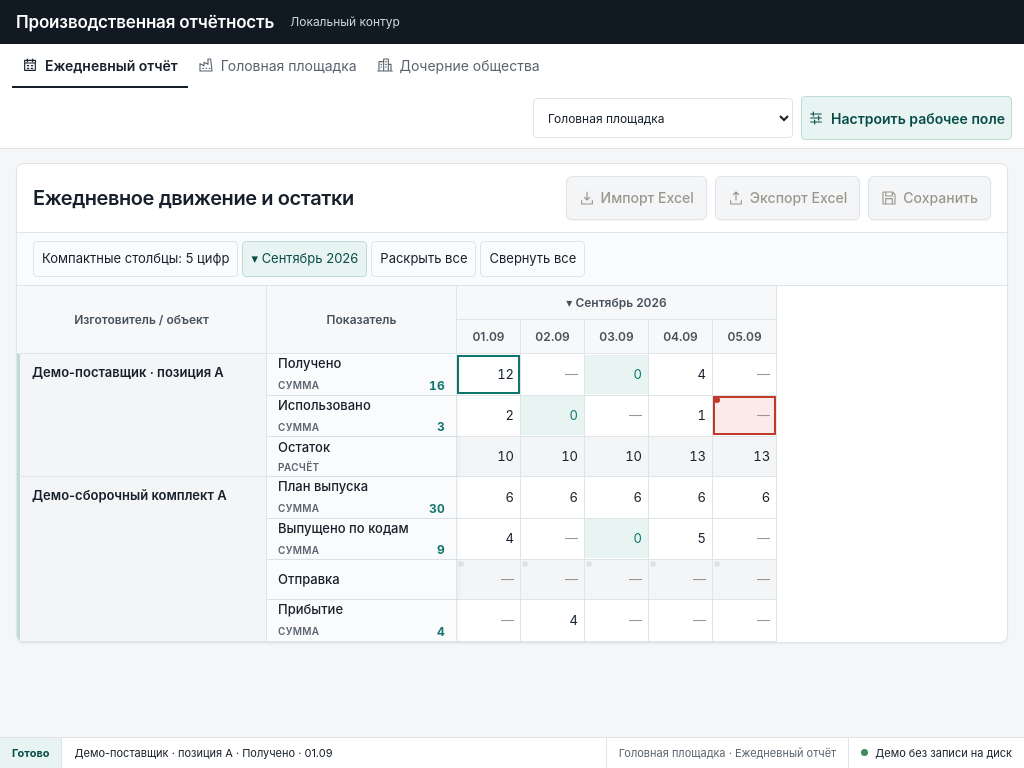
workspace settings › opens a separate settings window and adds report rows
Expected: the heading "Ежедневное движение и остатки" is shown, [33,184,354,212]
Expected: the text "Демо без записи на диск" is shown, [861,746,1012,760]
Click the button "Настроить рабочее поле": (906, 118) [801,96,1012,140]
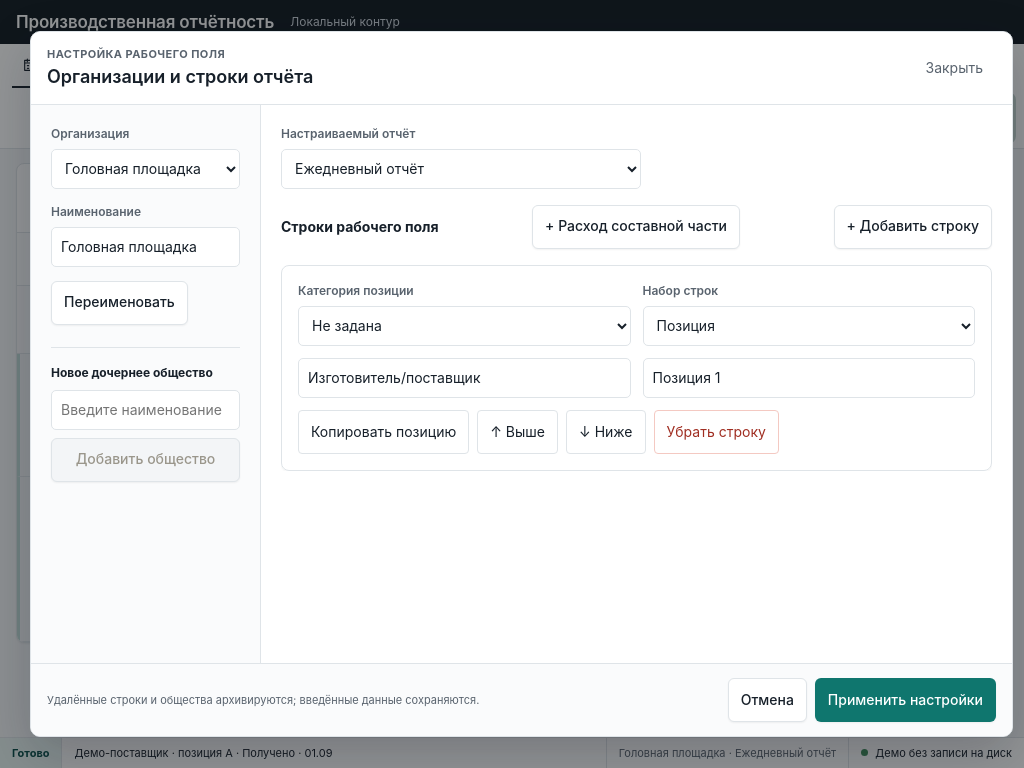
Expected: the dialog "Организации и строки отчёта" is shown
Click the button "+ Добавить строку": (913, 227) [834,205,992,249]
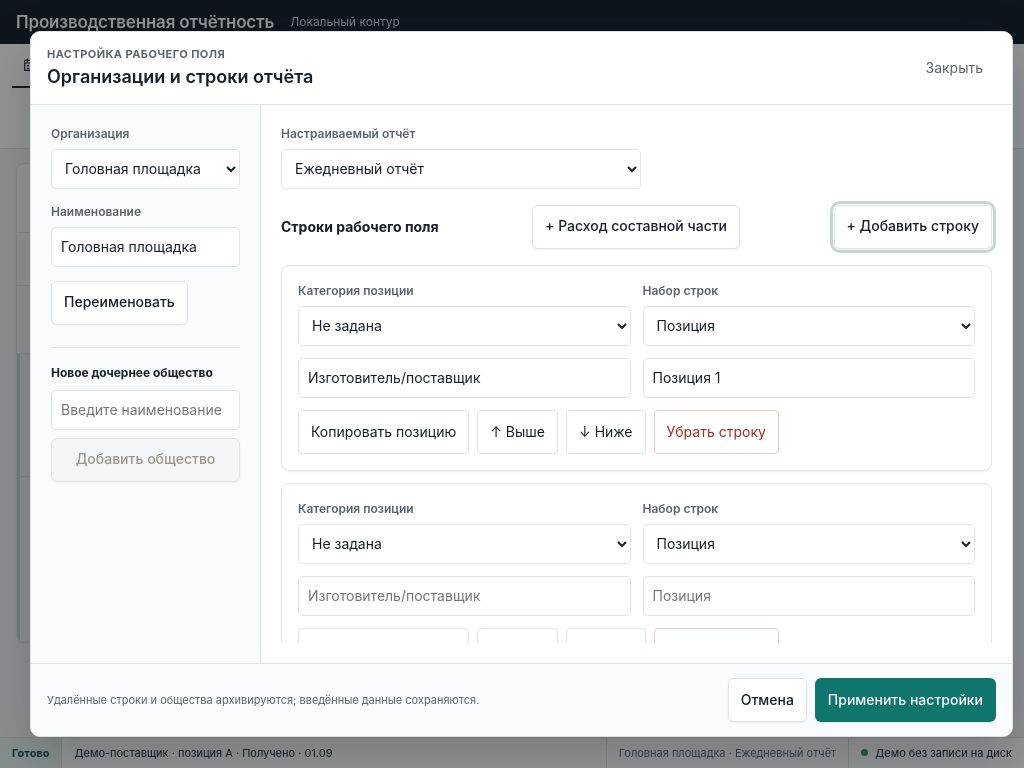
Expected: the number of fields named "Позиция" is 2
Expected: the field labelled "Позиция" is empty
In the field labelled "Позиция": (809, 596) [642,576,975,616], type "Новая деталь"
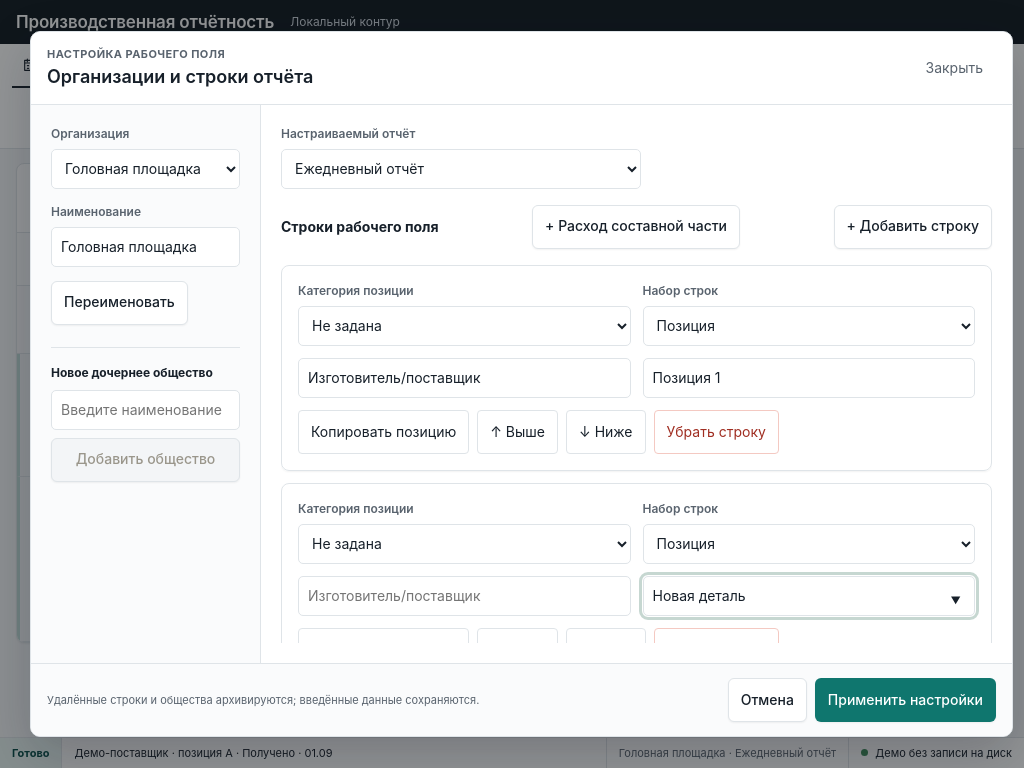
In the field named "Изготовитель или поставщик": (464, 596) [298,576,630,616], type "Завод"
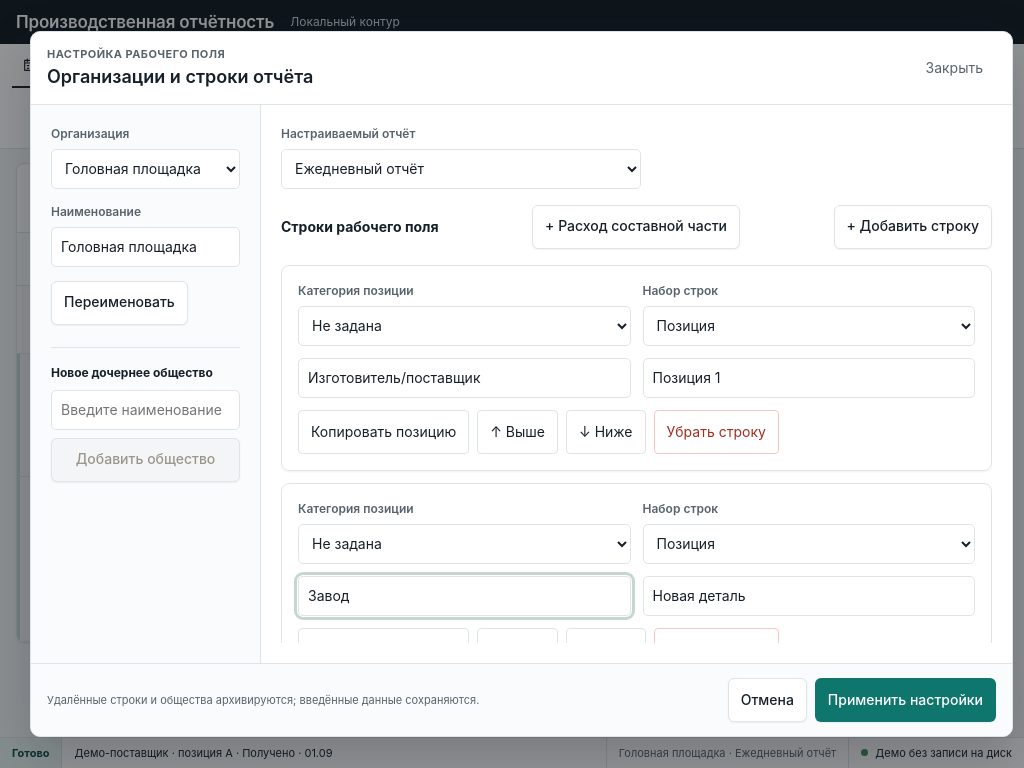
Click the button "Применить настройки": (905, 700) [815,678,996,722]
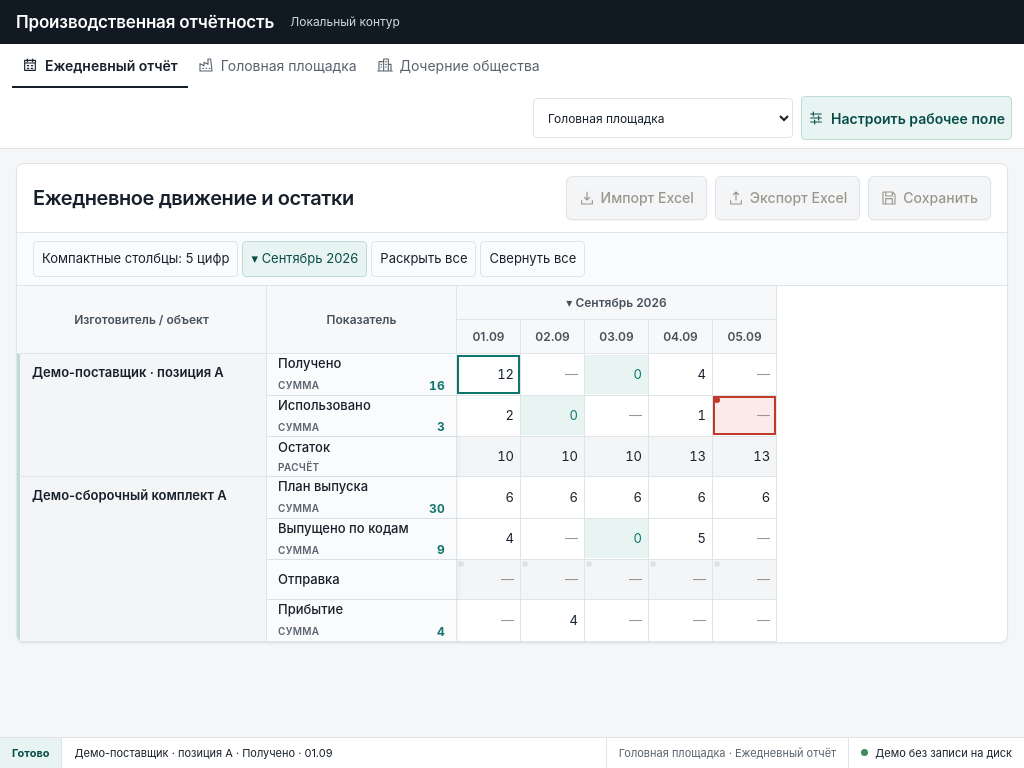
Expected: the heading "Организации и строки отчёта" is gone
